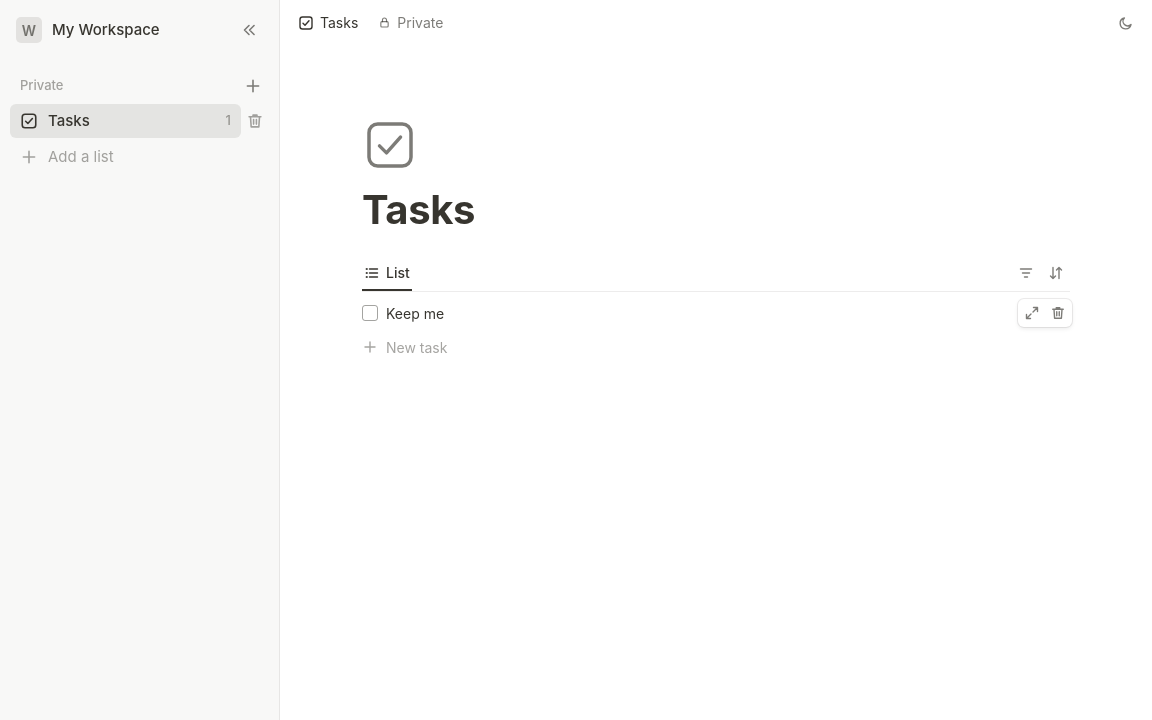
Test: editing tasks › keeps the old title if the edit is cleared
Expected: the field labelled "New task" is shown, [386,334,1070,360]
Click the button named "Edit title: Keep me".
click(415, 313)  # box [386,300,1062,326]
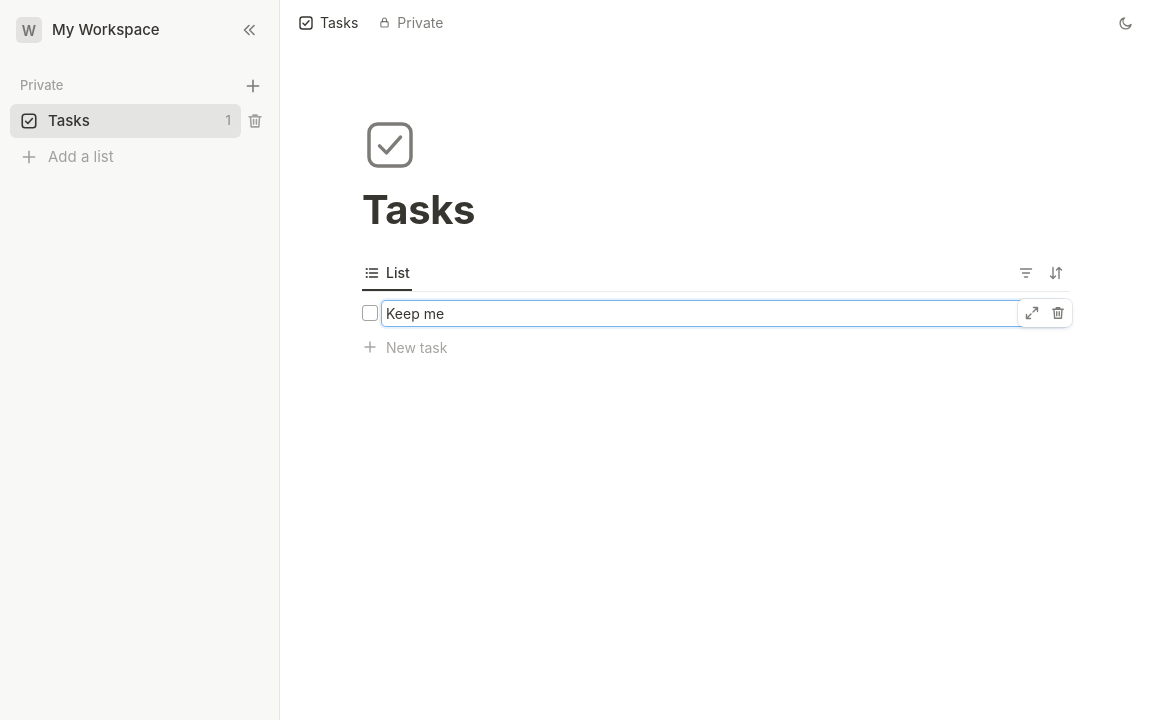
Clear the field named "Title" at (724, 313), box [382,300,1066,326]
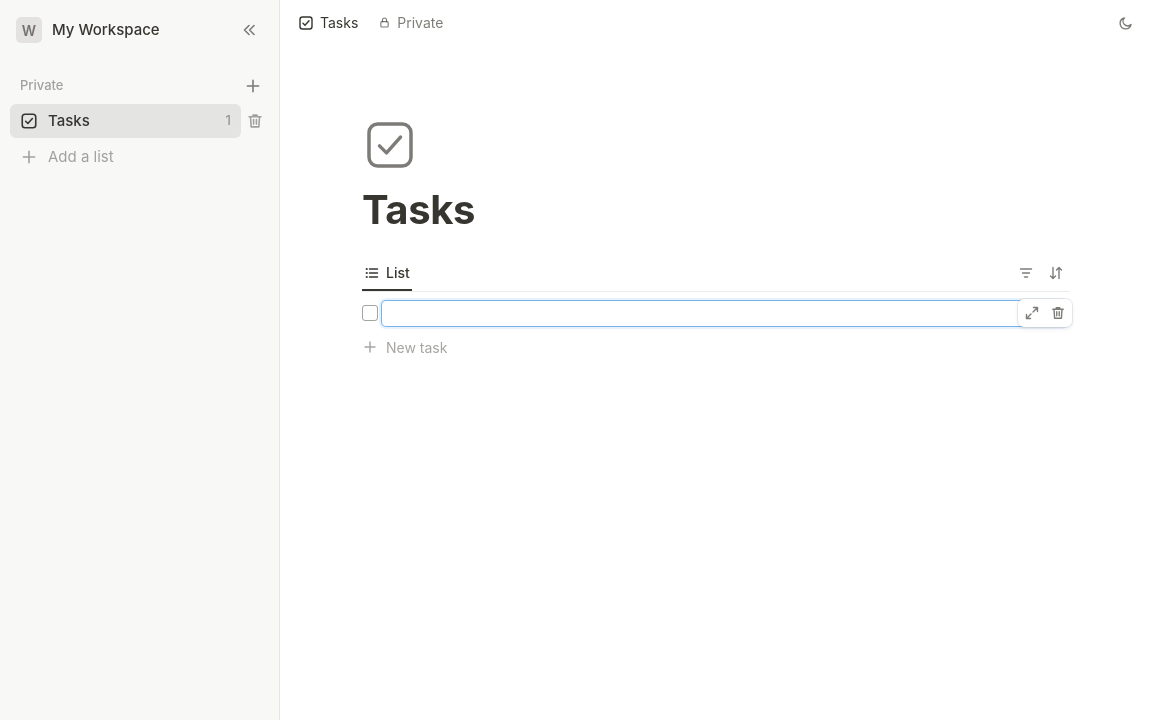
Press Enter
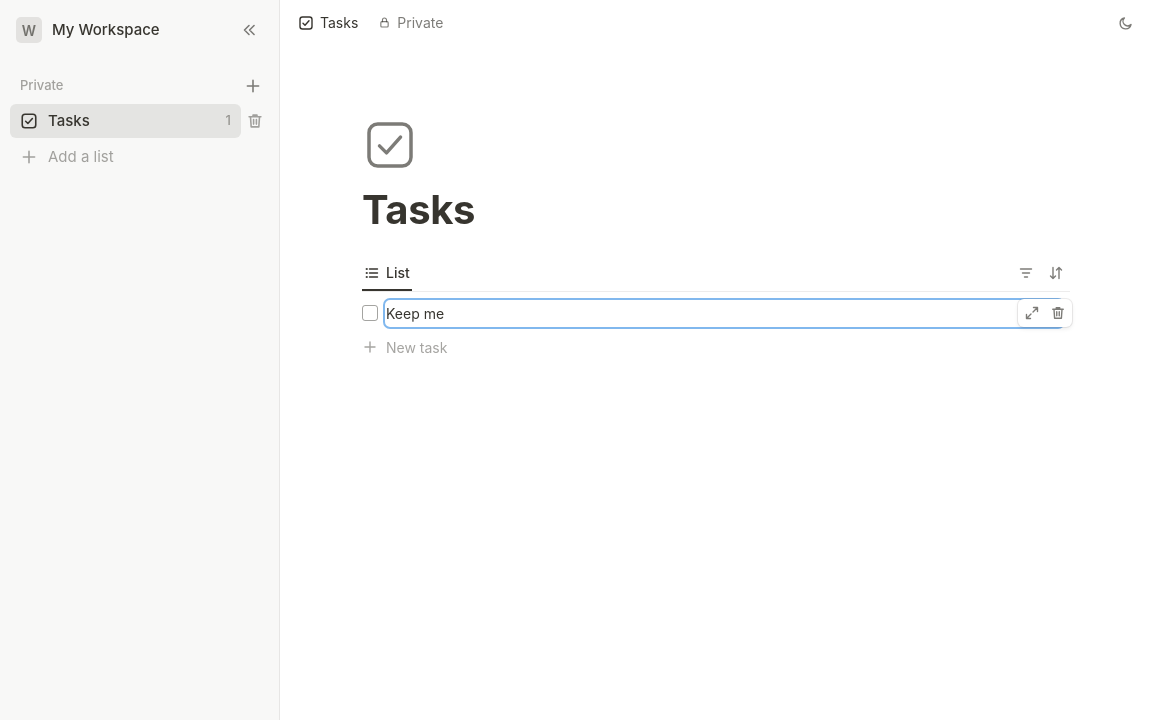
Expected: the button named "Edit title: Keep me" is shown, [386,300,1062,326]
